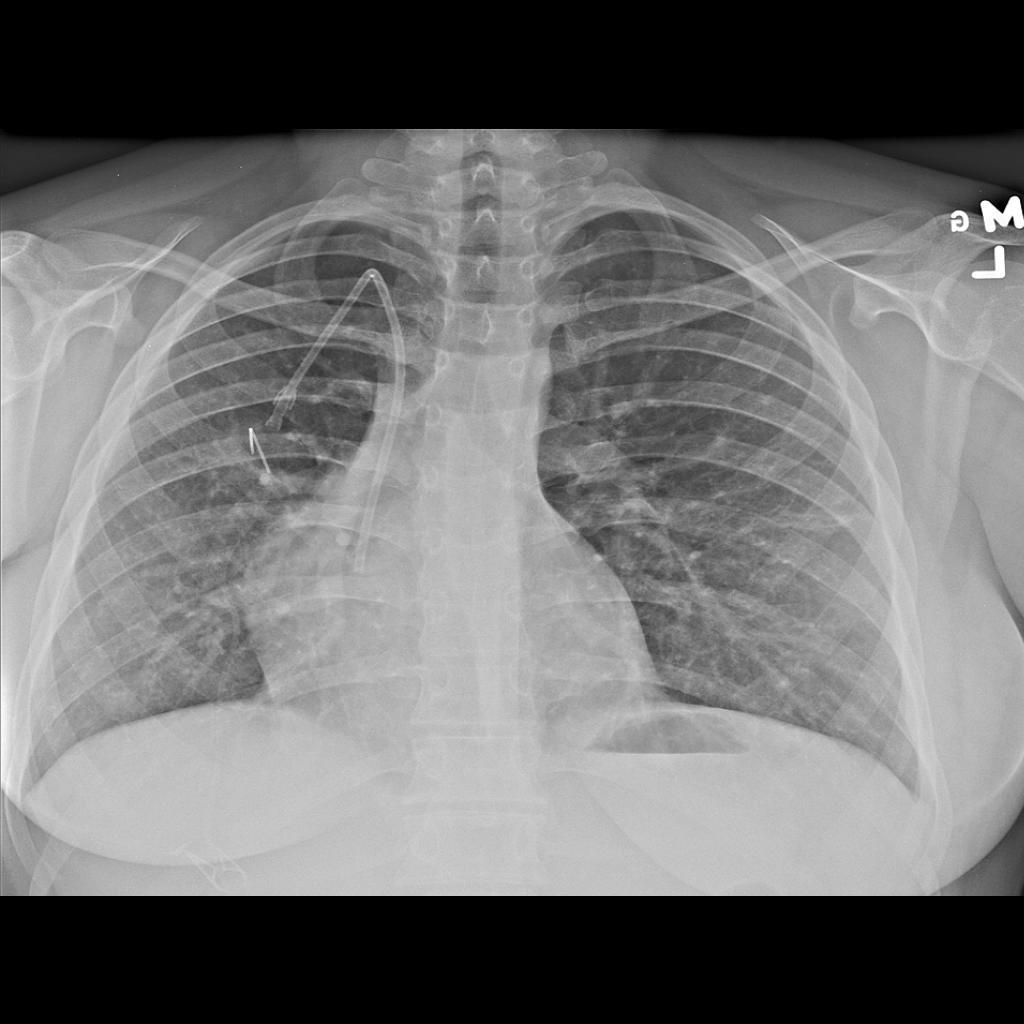Nodule: (215, 428, 267, 478)
